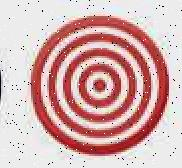target_red: (30, 15, 169, 155)
